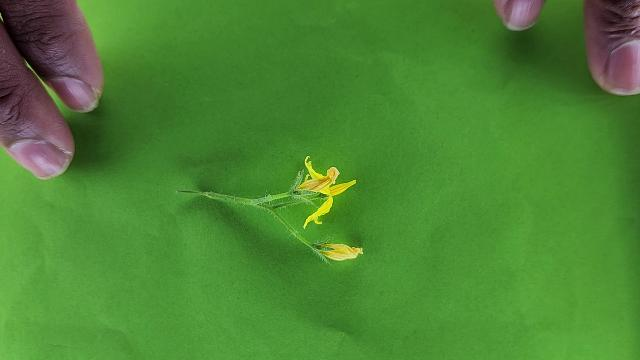Anthesis: (295, 158, 357, 229), (309, 237, 363, 262)
